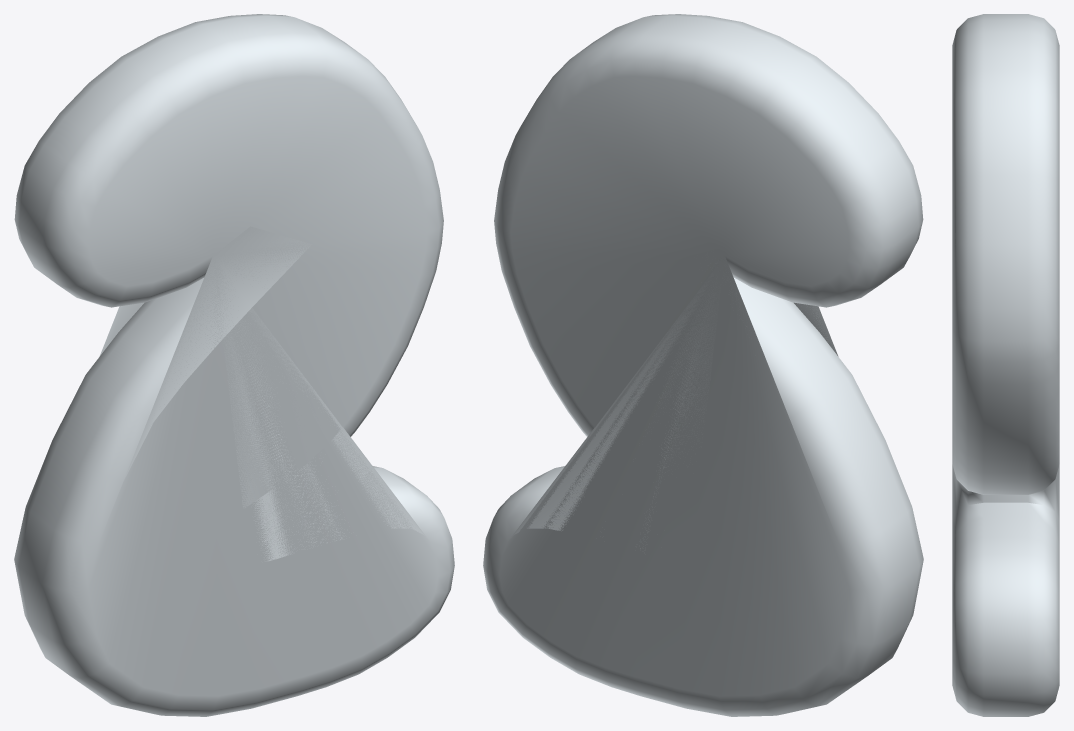
The model's file is NumberTwo 1.fbx.
3 views of the same model, side by side, from view 1: azimuth 30°, elevation 25°; view 2: azimuth 150°, elevation 25°; view 3: azimuth 270°, elevation 25° (orthographic). The views are drawn at different scales.
Visible parts, largest first — view 1: Vert.003; view 2: Vert.003; view 3: Vert.003.
Part boxes in pixels (left/top/right/bottom): Vert.003: left=14, top=14, right=454, bottom=716; Vert.003: left=483, top=14, right=923, bottom=716; Vert.003: left=952, top=14, right=1059, bottom=716.
Bounding box in the file's own units: 208 × 325 × 50.18.
